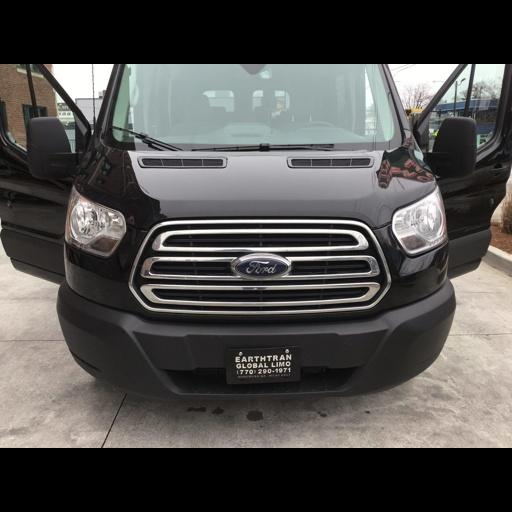van: (0, 66, 511, 394)
